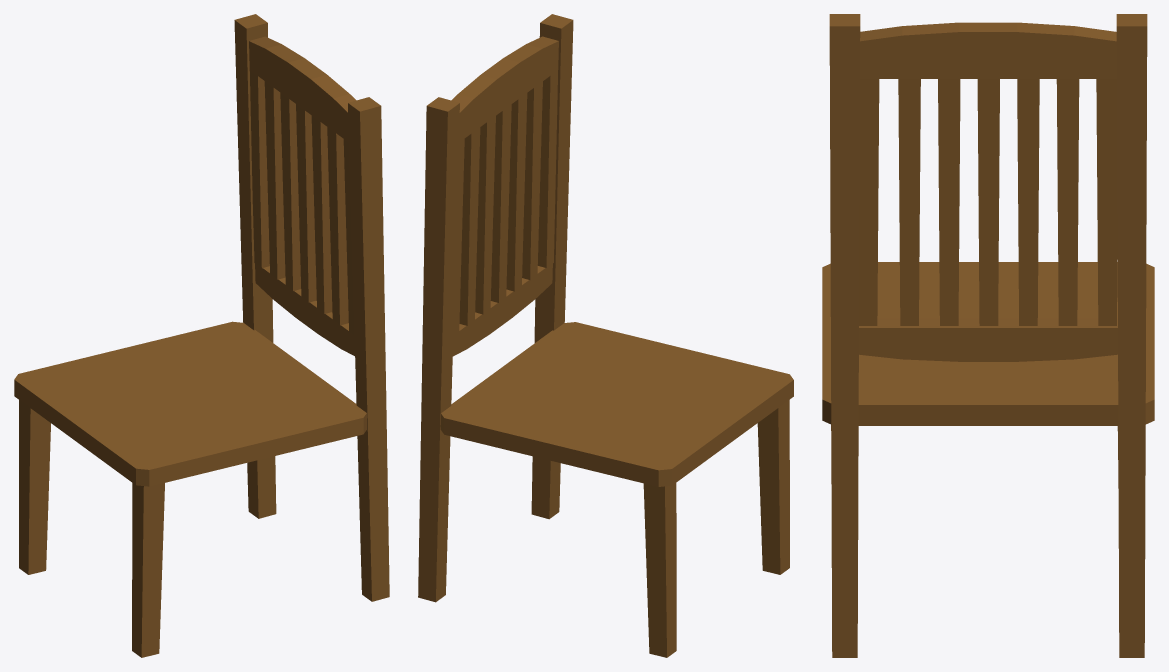
Rendered from Chair_2.fbx.
3 views of the same model, side by side, from view 1: azimuth 30°, elevation 25°; view 2: azimuth 150°, elevation 25°; view 3: azimuth 270°, elevation 25° (orthographic). The views are drawn at different scales.
Parts seen in each view (by area): view 1: Chair_2; view 2: Chair_2; view 3: Chair_2.
Boxes of the visible parts, x1,y1,x2,y2 form: Chair_2: [14, 14, 389, 657]; Chair_2: [418, 14, 793, 657]; Chair_2: [822, 14, 1154, 657].
Bounding box in the file's own units: 0.3183 × 0.5951 × 0.2859.
